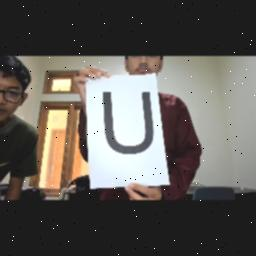u: (94, 82, 164, 164)
